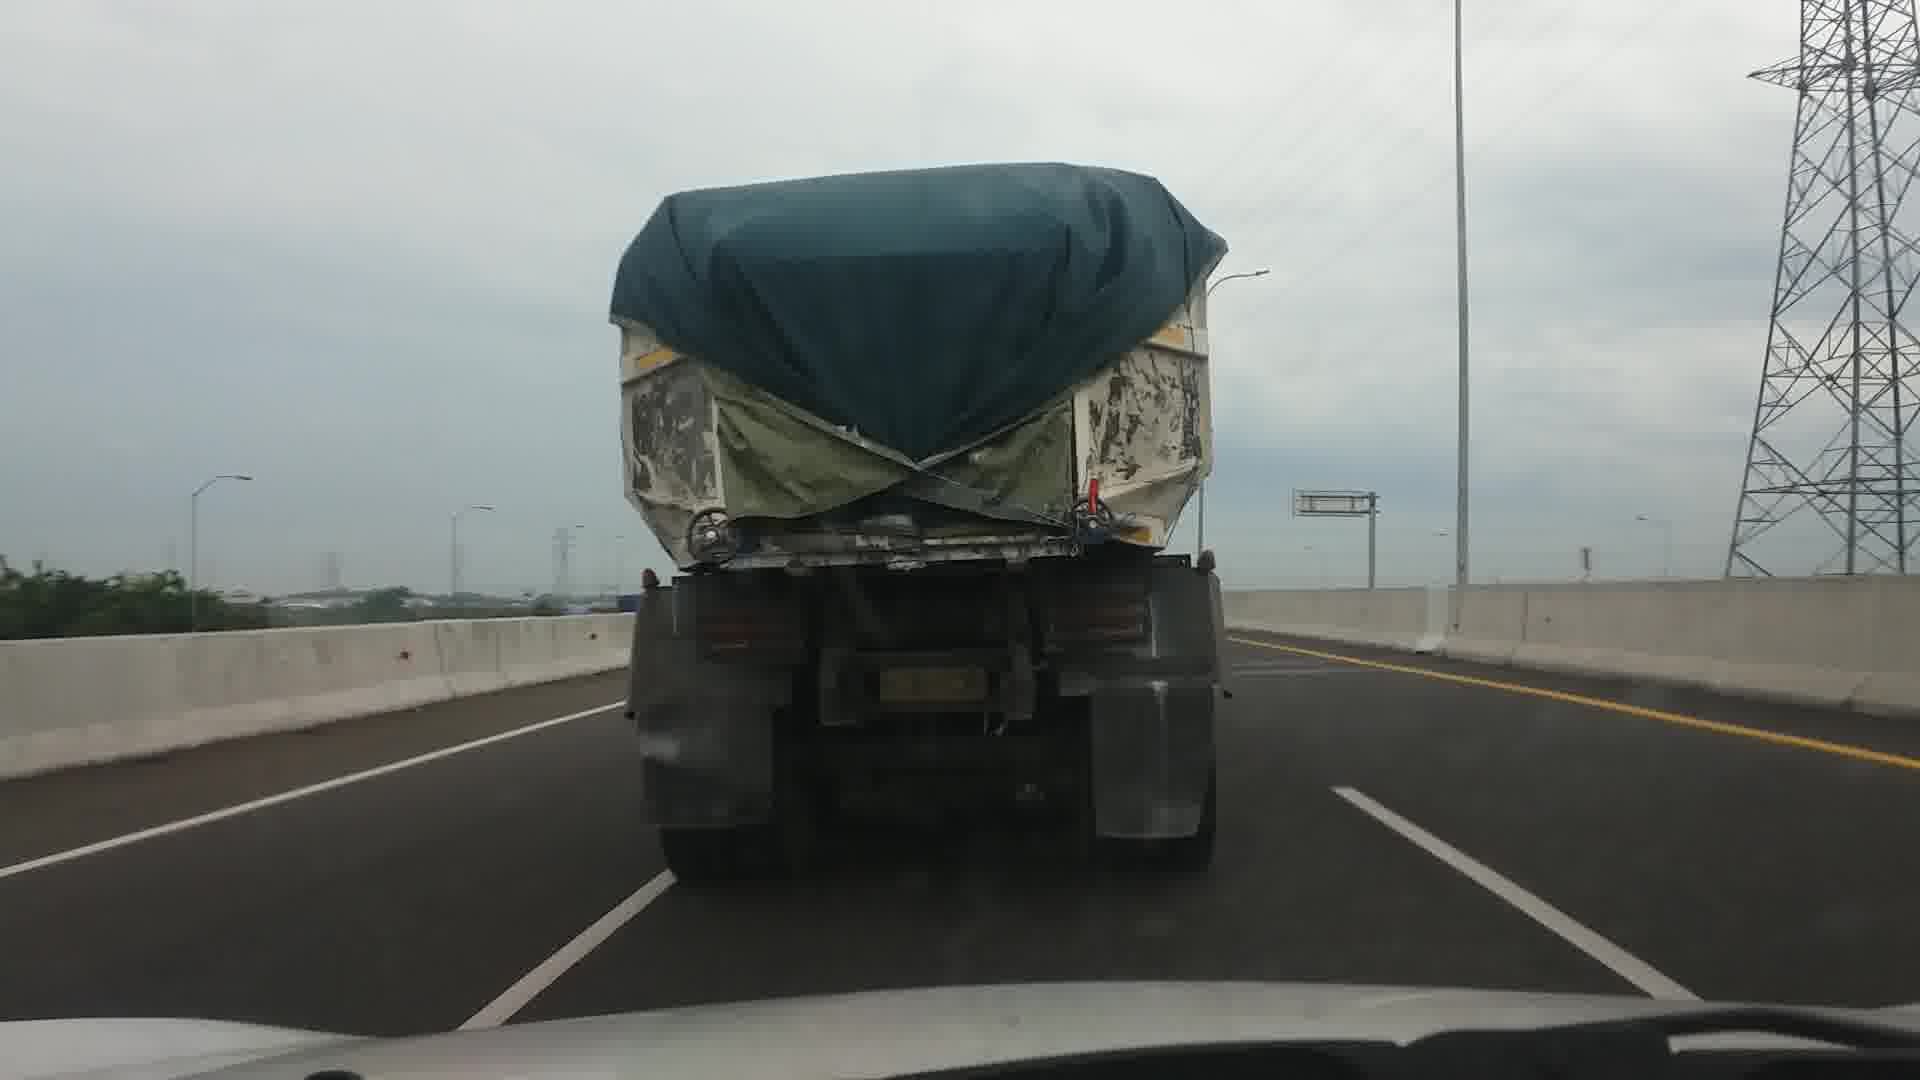plate_positive: (880, 666, 985, 702)
